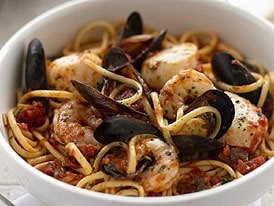sandwich: (2, 4, 274, 202)
